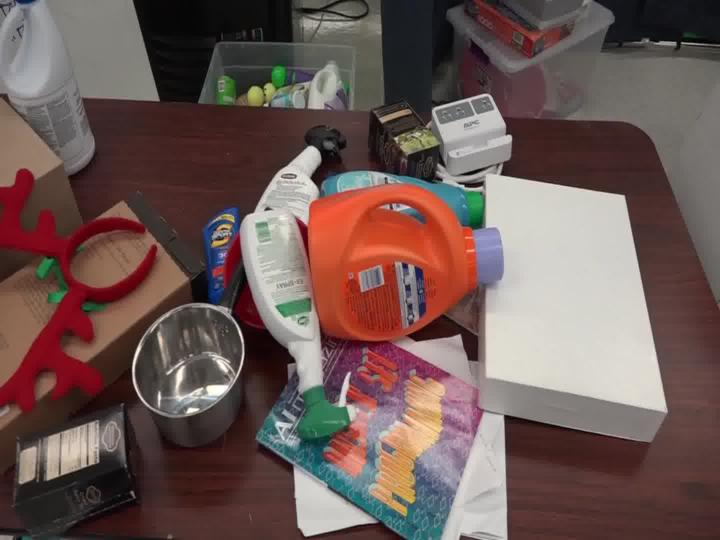tide: (283, 164, 508, 344)
